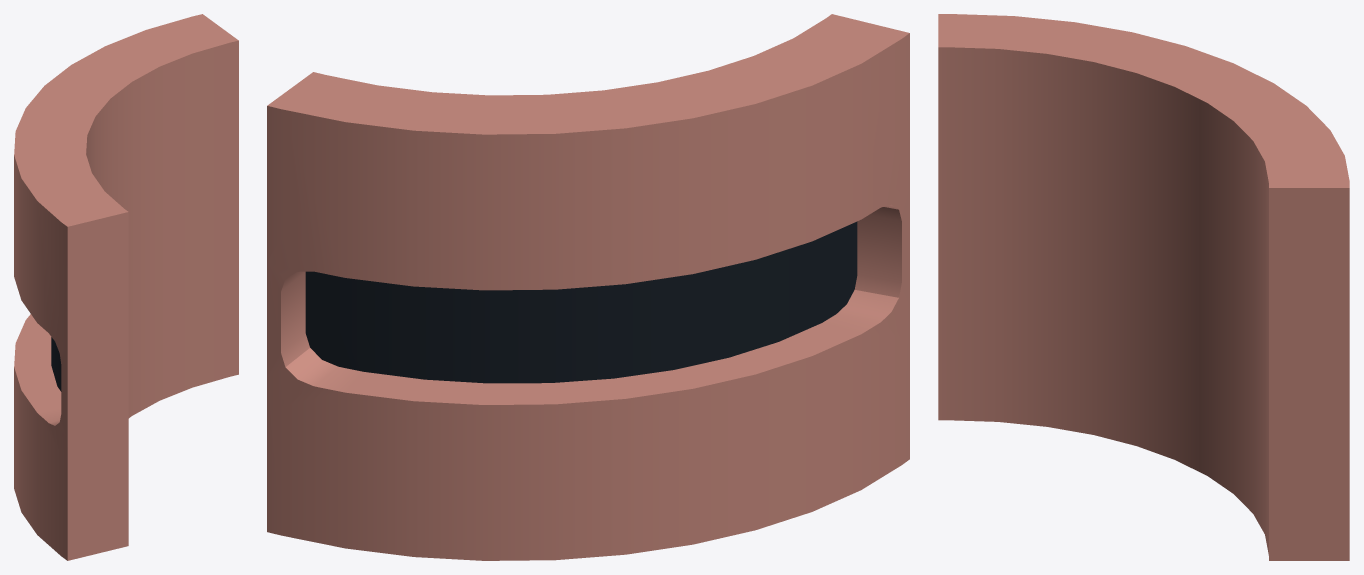
The model's file is BasicWall5x5Window.fbx.
3 views of the same model, side by side, from view 1: azimuth 30°, elevation 25°; view 2: azimuth 150°, elevation 25°; view 3: azimuth 270°, elevation 25° (orthographic). The views are drawn at different scales.
Visible parts, largest first — view 1: BasicWall5x5Window.002; view 2: BasicWall5x5Window.002; view 3: BasicWall5x5Window.002.
Boxes of the visible parts, x1,y1,x2,y2 form: BasicWall5x5Window.002: (14,14,238,560); BasicWall5x5Window.002: (267,14,909,560); BasicWall5x5Window.002: (938,14,1349,560).
Size of the model in its own units: 500 by 500 by 500.
